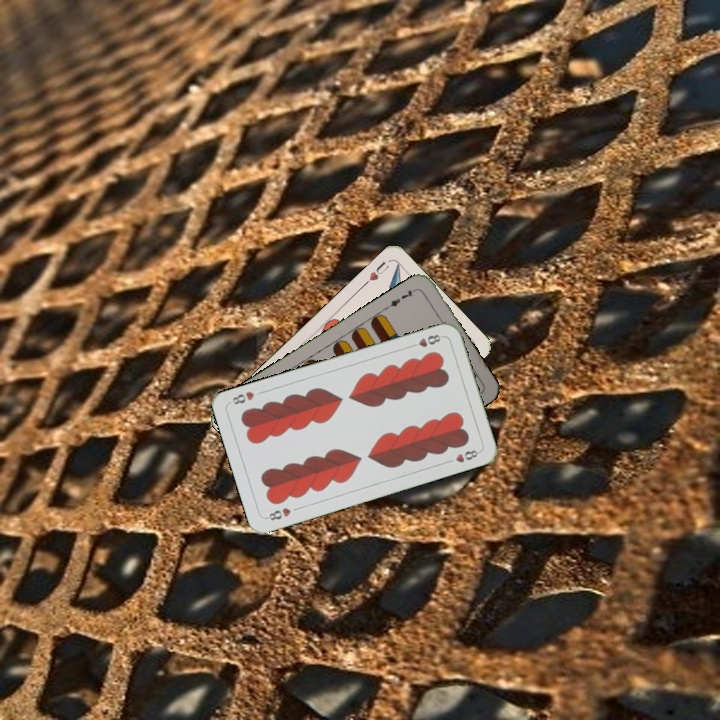E7: (383, 284, 420, 311)
H8: (406, 330, 445, 350), (262, 504, 294, 523)
HU: (360, 257, 392, 288)
